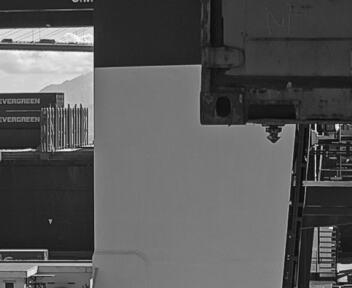twist_lock_2: (159, 71, 208, 115)
